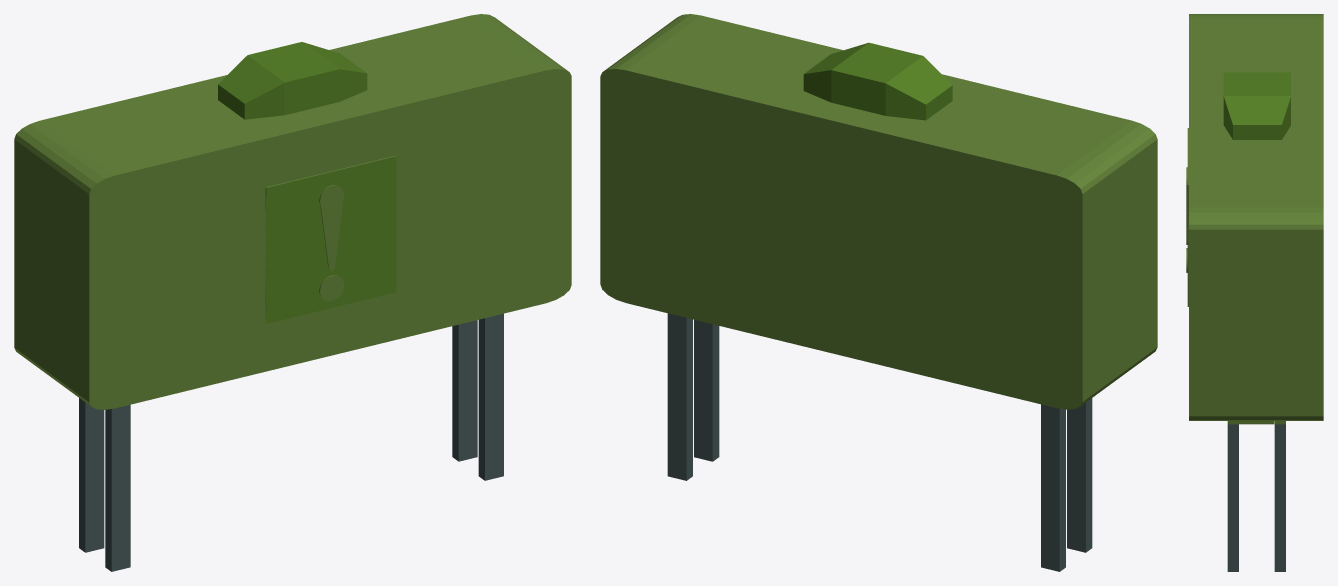
The model's file is KlaimorB.fbx.
3 views of the same model, side by side, from view 1: azimuth 30°, elevation 25°; view 2: azimuth 150°, elevation 25°; view 3: azimuth 270°, elevation 25° (orthographic). The views are drawn at different scales.
Visible parts, largest first — view 1: Cube; view 2: Cube; view 3: Cube.
Boxes of the visible parts, x1=… form: Cube: x1=14, y1=14, x2=571, y2=571; Cube: x1=600, y1=14, x2=1157, y2=571; Cube: x1=1186, y1=14, x2=1323, y2=571.
Size of the model in its own units: 742 by 660 by 204.
